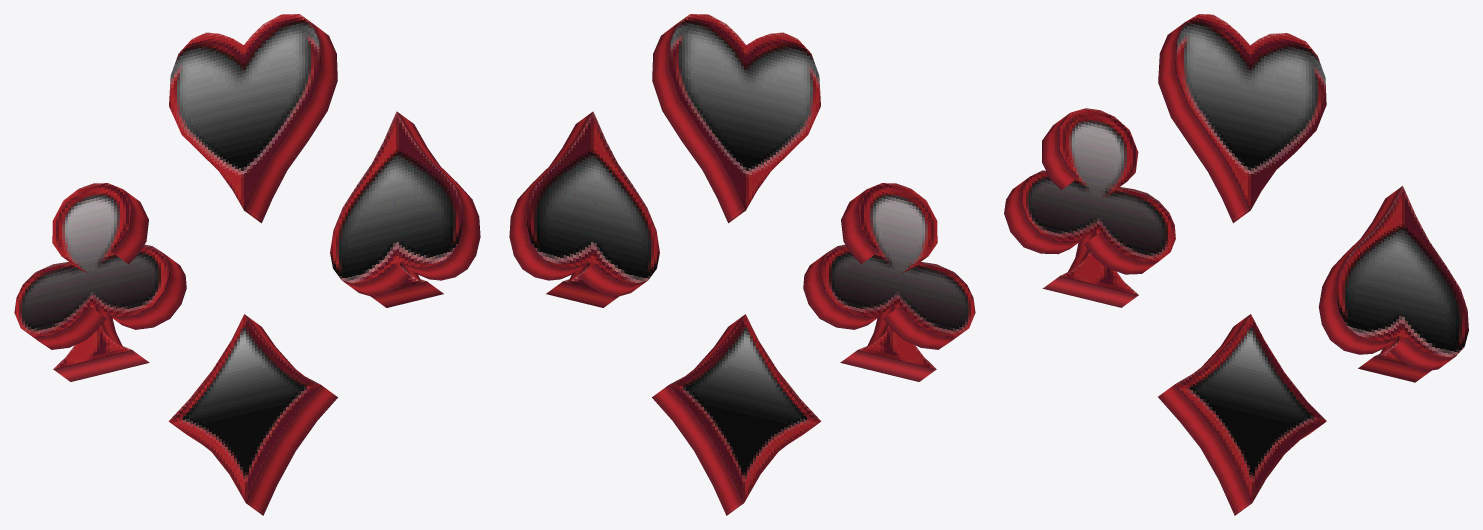
The model's file is ps2_save-icons_worldchampionshipcards.glb.
3 renders of one model, left to right at view 1: azimuth 30°, elevation 25°; view 2: azimuth 150°, elevation 25°; view 3: azimuth 330°, elevation 25°, orthographic.
Visible parts, largest first — view 1: sp_1.ico; view 2: sp_1.ico; view 3: sp_1.ico.
Part boxes in pixels (x1=…): sp_1.ico: x1=14, y1=14, x2=480, y2=515; sp_1.ico: x1=509, y1=14, x2=975, y2=515; sp_1.ico: x1=1004, y1=14, x2=1468, y2=515.
Size of the model in its own units: 4.86 by 4.97 by 0.3301.
1 material, 1 textured.
